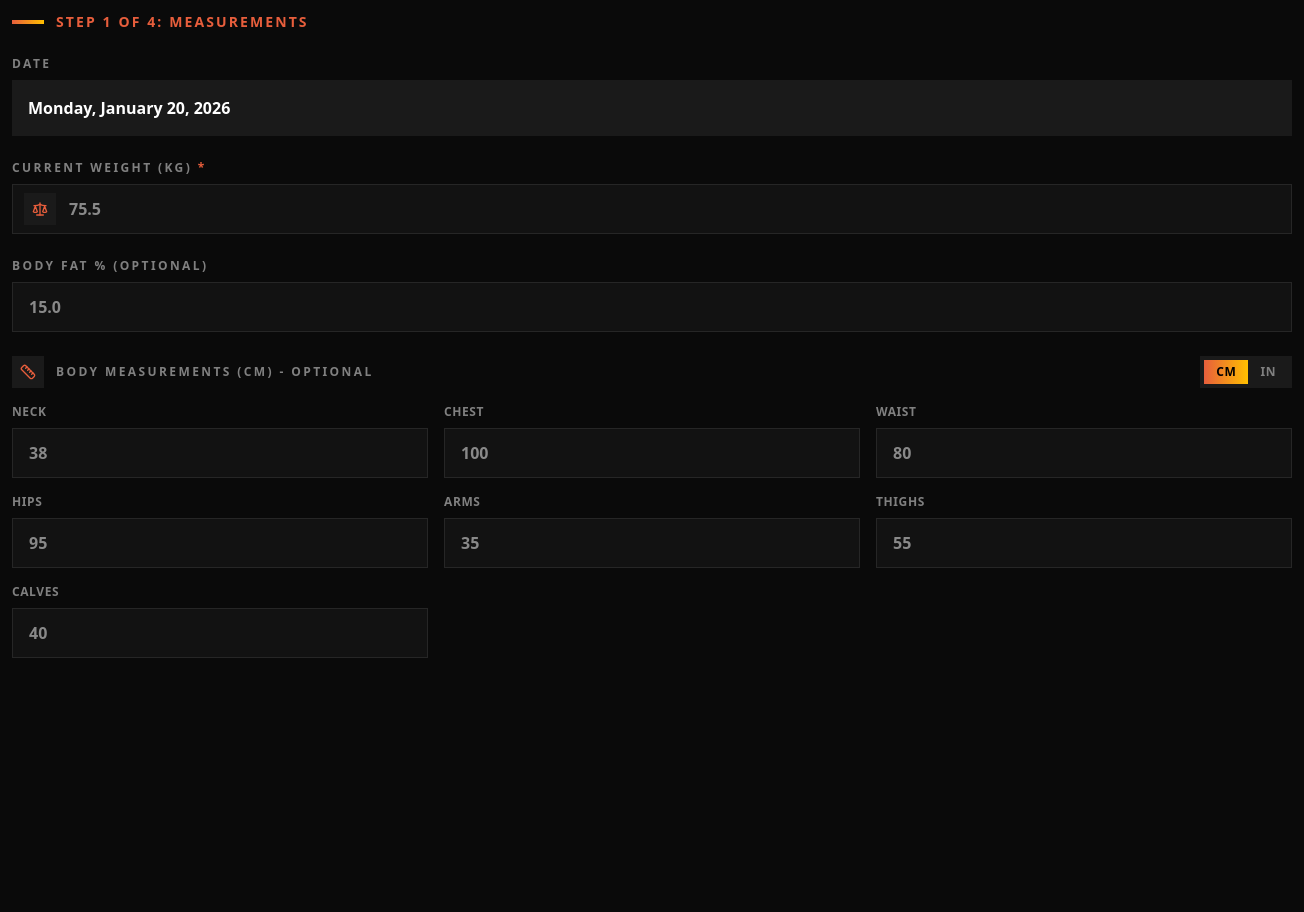
it: MeasurementsStep Component › cm / inches unit toggle › converts the displayed value when the unit is switched
The width and height of the screenshot is (1304, 912).
Type "10" into the number field labelled "Neck". click: point(220, 453)
box: [12,428,428,478]
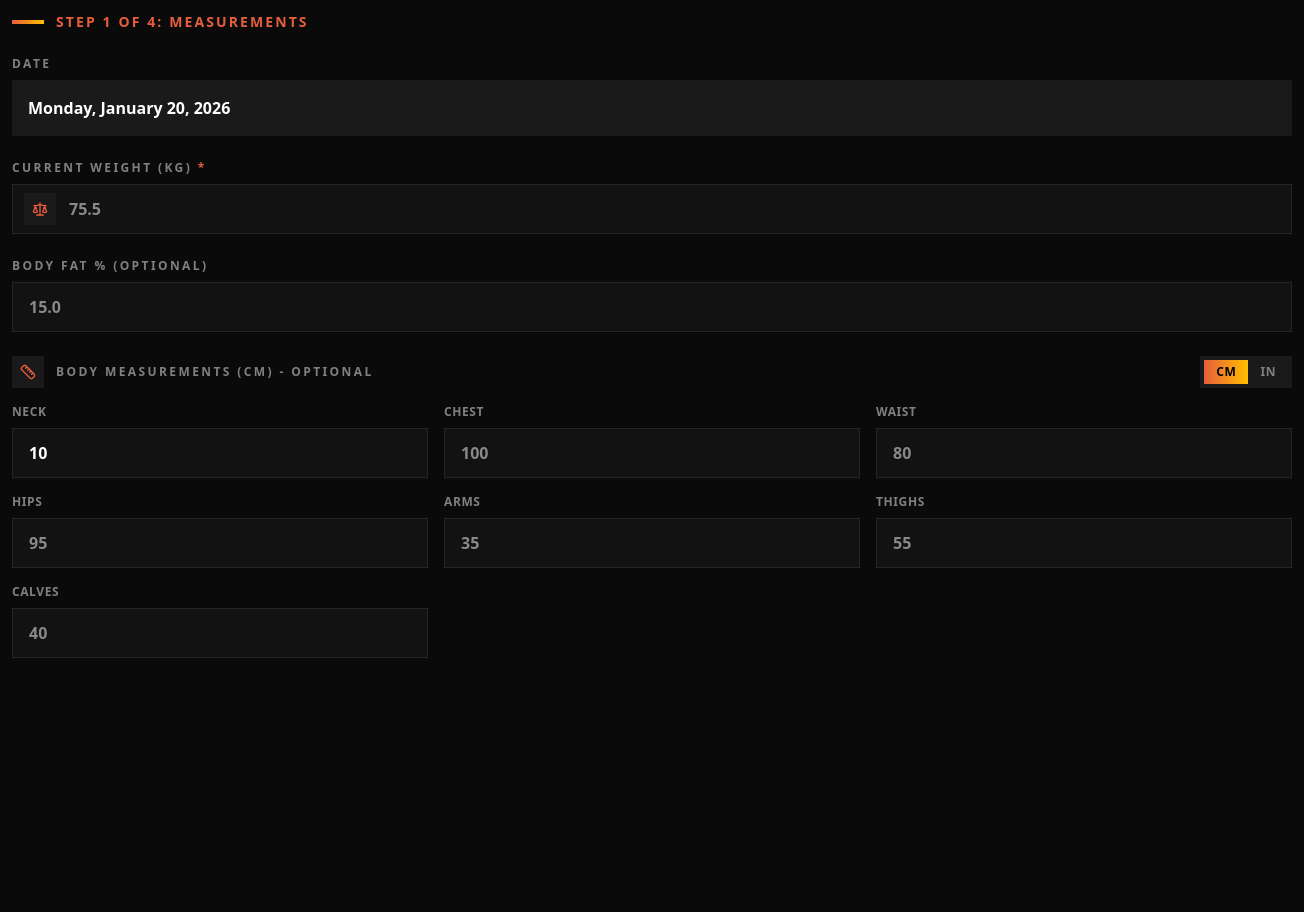
Click the button "in". click: point(1268, 372)
box: [1248,360,1288,384]
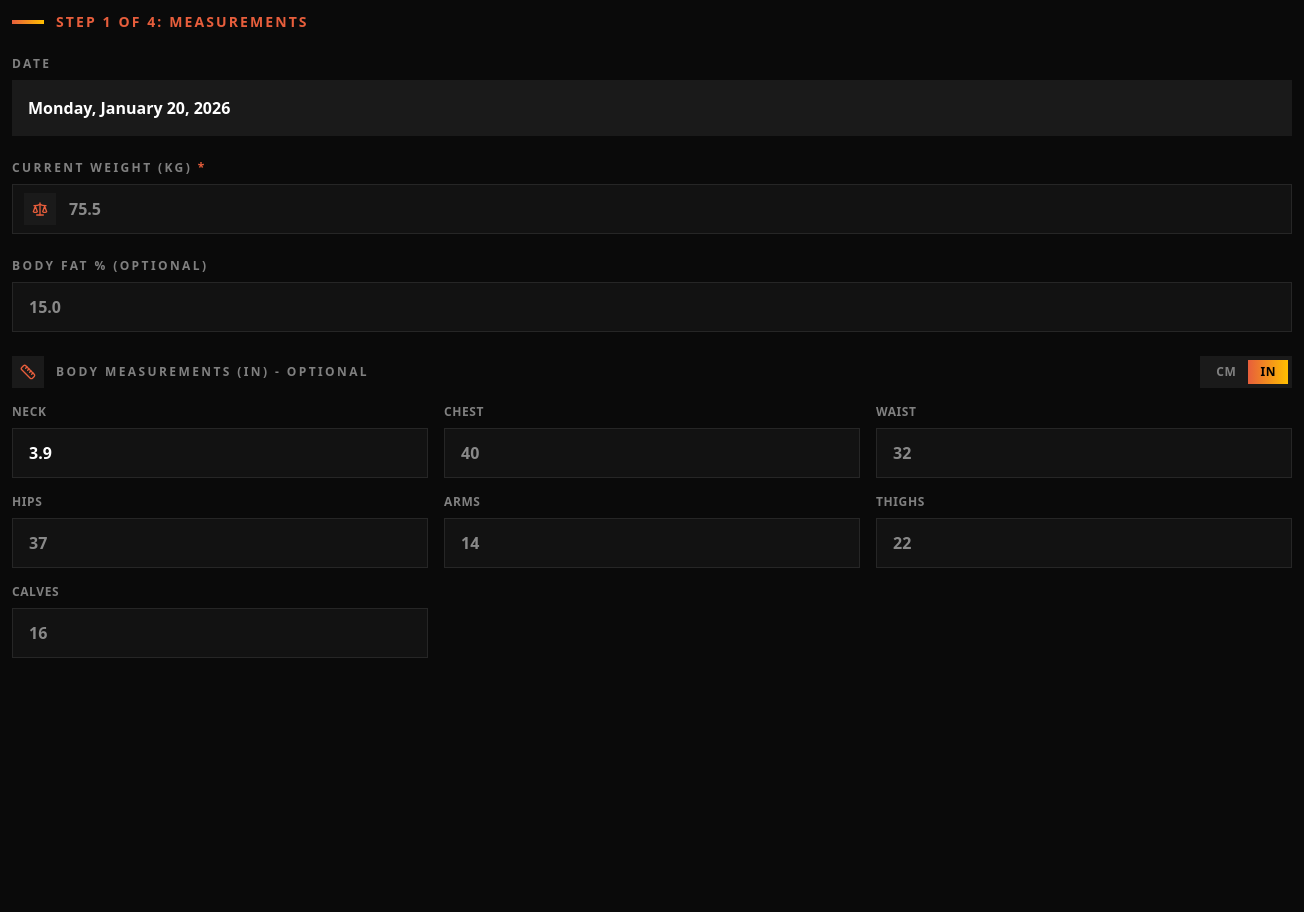
Expected: the number field labelled "Neck" holds "3.9", [12,428,428,478]
